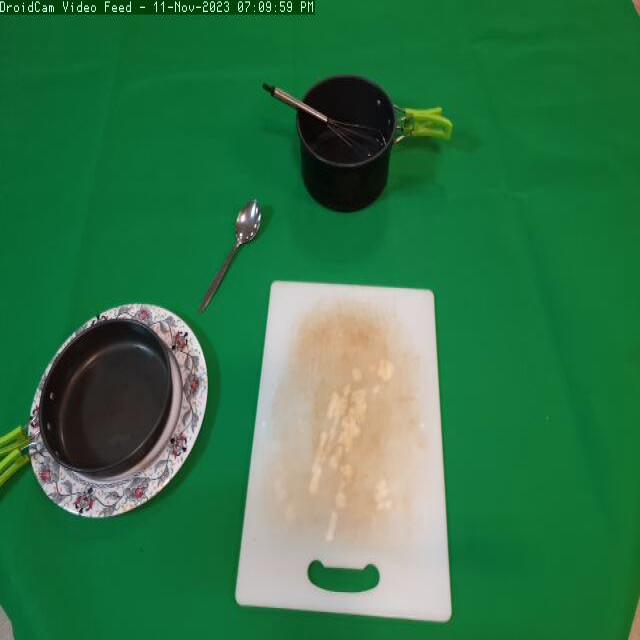cutting board: (240, 261, 470, 636)
pan: (0, 317, 178, 490)
plate: (27, 306, 210, 520)
pot: (286, 63, 453, 223)
spoon: (191, 192, 264, 318)
whisk: (258, 77, 390, 169)
